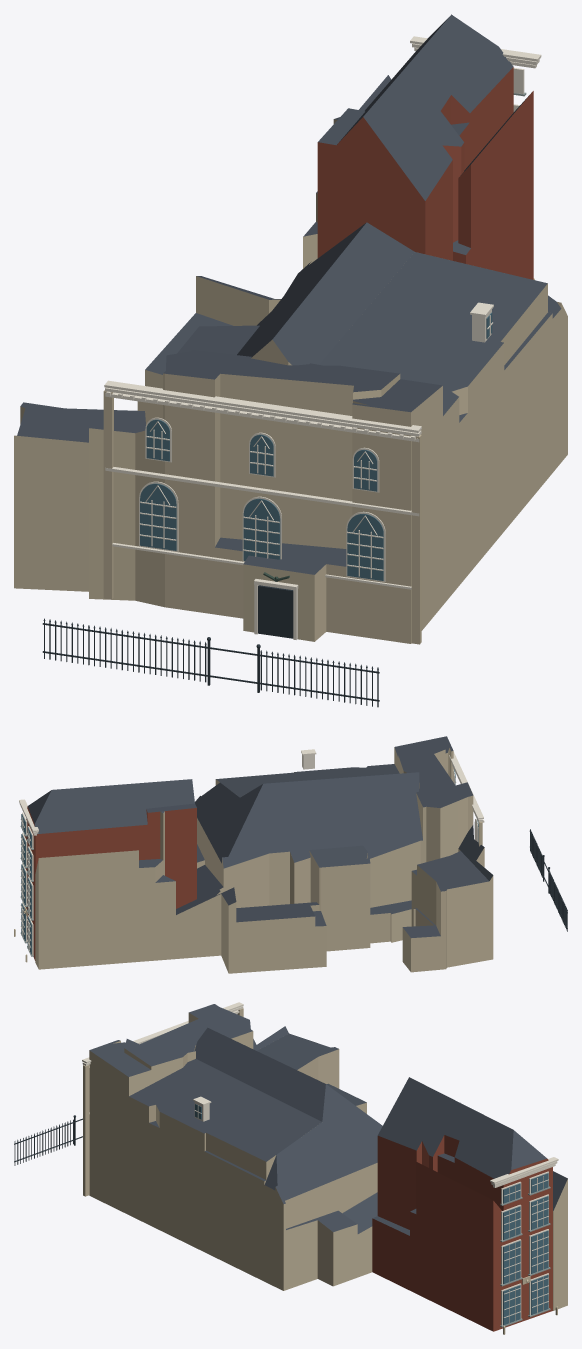
Rendered from singelkerk.glb.
The picture shows the model from 3 angles, top to bottom: view 1: azimuth 30°, elevation 25°; view 2: azimuth 150°, elevation 25°; view 3: azimuth 270°, elevation 25°; orthographic projection. The views are drawn at different scales.
Visible parts, largest first — view 1: singelkerk; view 2: singelkerk; view 3: singelkerk.
Boxes of the visible parts, bbox=[...] form: singelkerk: bbox=[14, 14, 567, 707]; singelkerk: bbox=[14, 736, 567, 973]; singelkerk: bbox=[14, 1002, 567, 1334].
Size of the model in its own units: 54.4 by 20.14 by 55.58.
